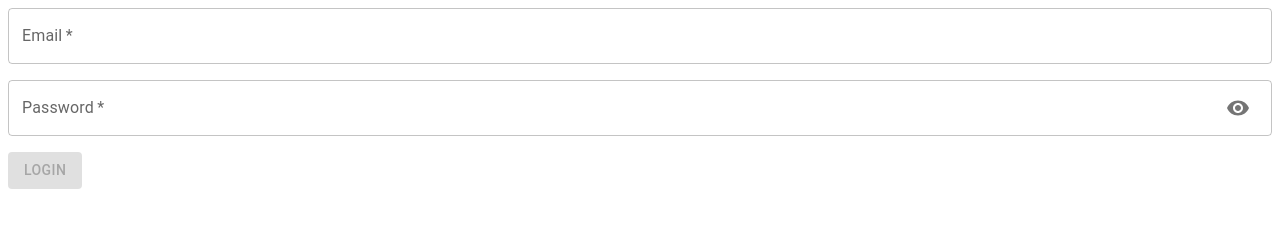
it: <Login /> › validates the password field
The width and height of the screenshot is (1280, 228).
Type "ss" into the password field labelled "Password *" at (613,108), box [8,80,1218,136]
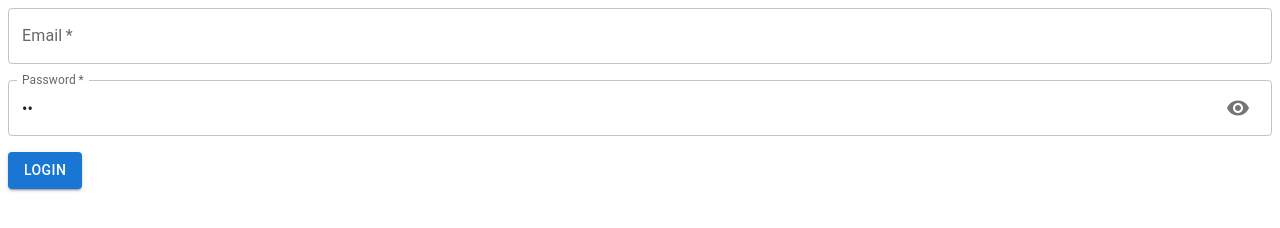
Clear the password field labelled "Password *" at (613,108), box [8,80,1218,136]
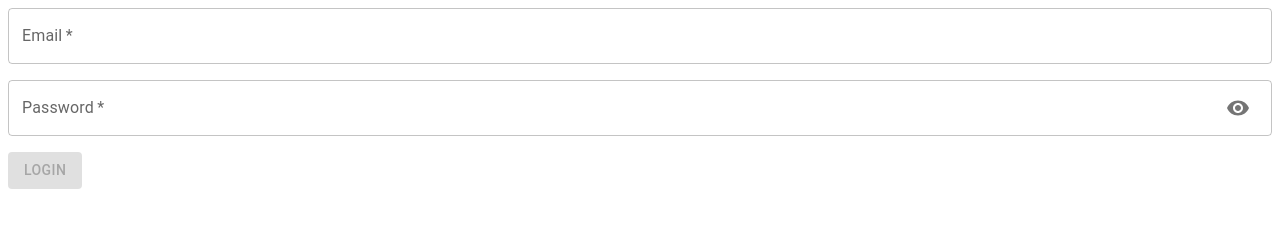
Leave the password field labelled "Password *", box [8,80,1218,136]
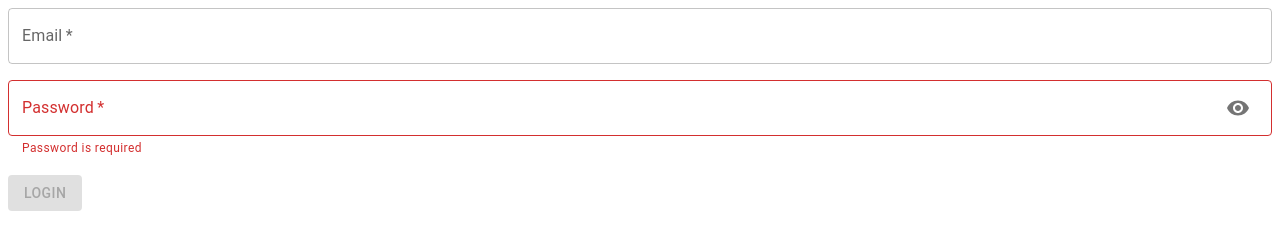
Now the button "Login" is disabled, box [8,175,82,211]
Now the text "Password is required" is shown, box [22,141,142,155]
